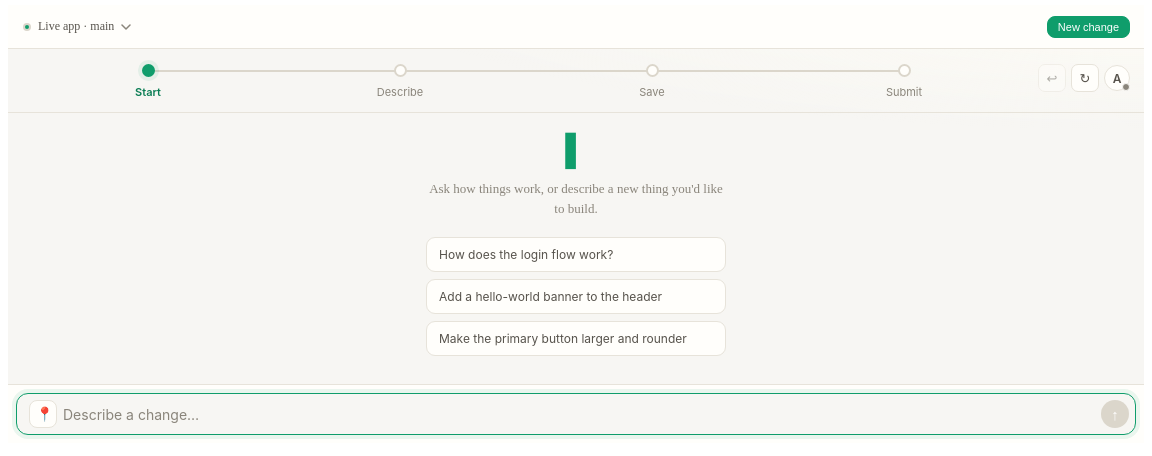
Test: Panel › sends a prompt and renders streamed progress
Expected: the button named "alice" is shown, [1104,65,1130,91]
In the text box with placeholder "Describe a change…": (579, 415) [63,402,1095,428], type "make it bigger"
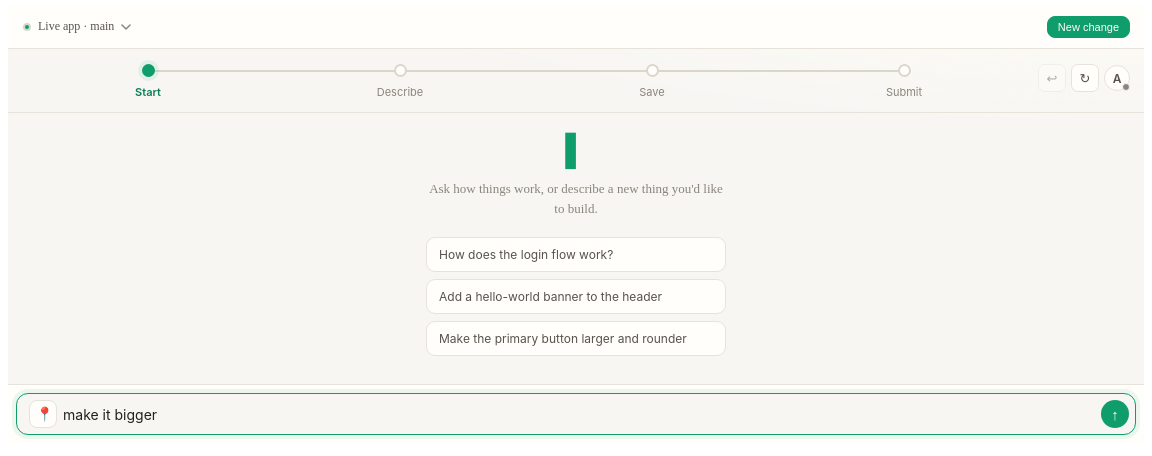
Click the button named "send": (1115, 414) [1101,400,1129,428]
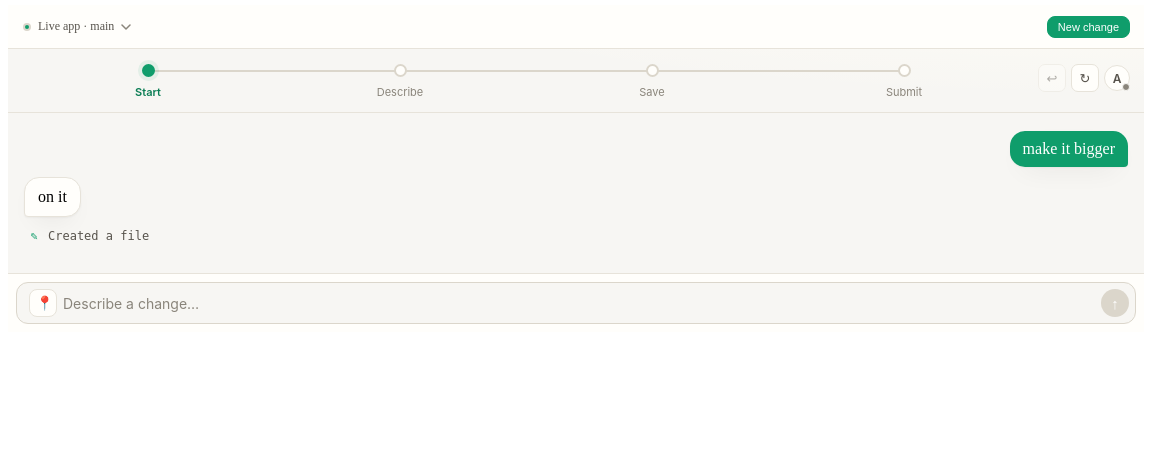
Expected: the text "on it" is shown, [24,177,81,217]
Expected: the text "Created a file" is shown, [48,229,149,243]
